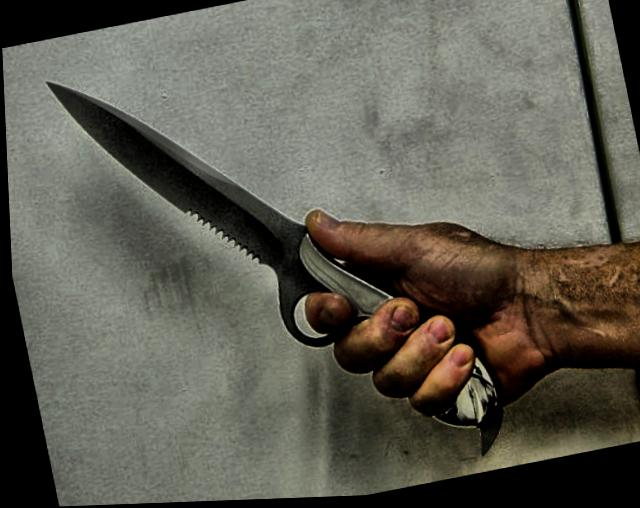knife: (36, 3, 479, 444)
